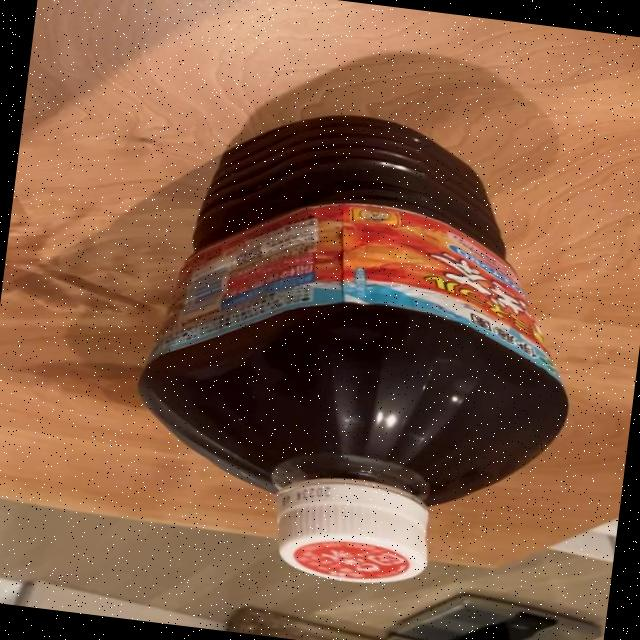bottle: (121, 92, 605, 609)
cap: (264, 466, 438, 592)
label: (151, 175, 594, 378)
